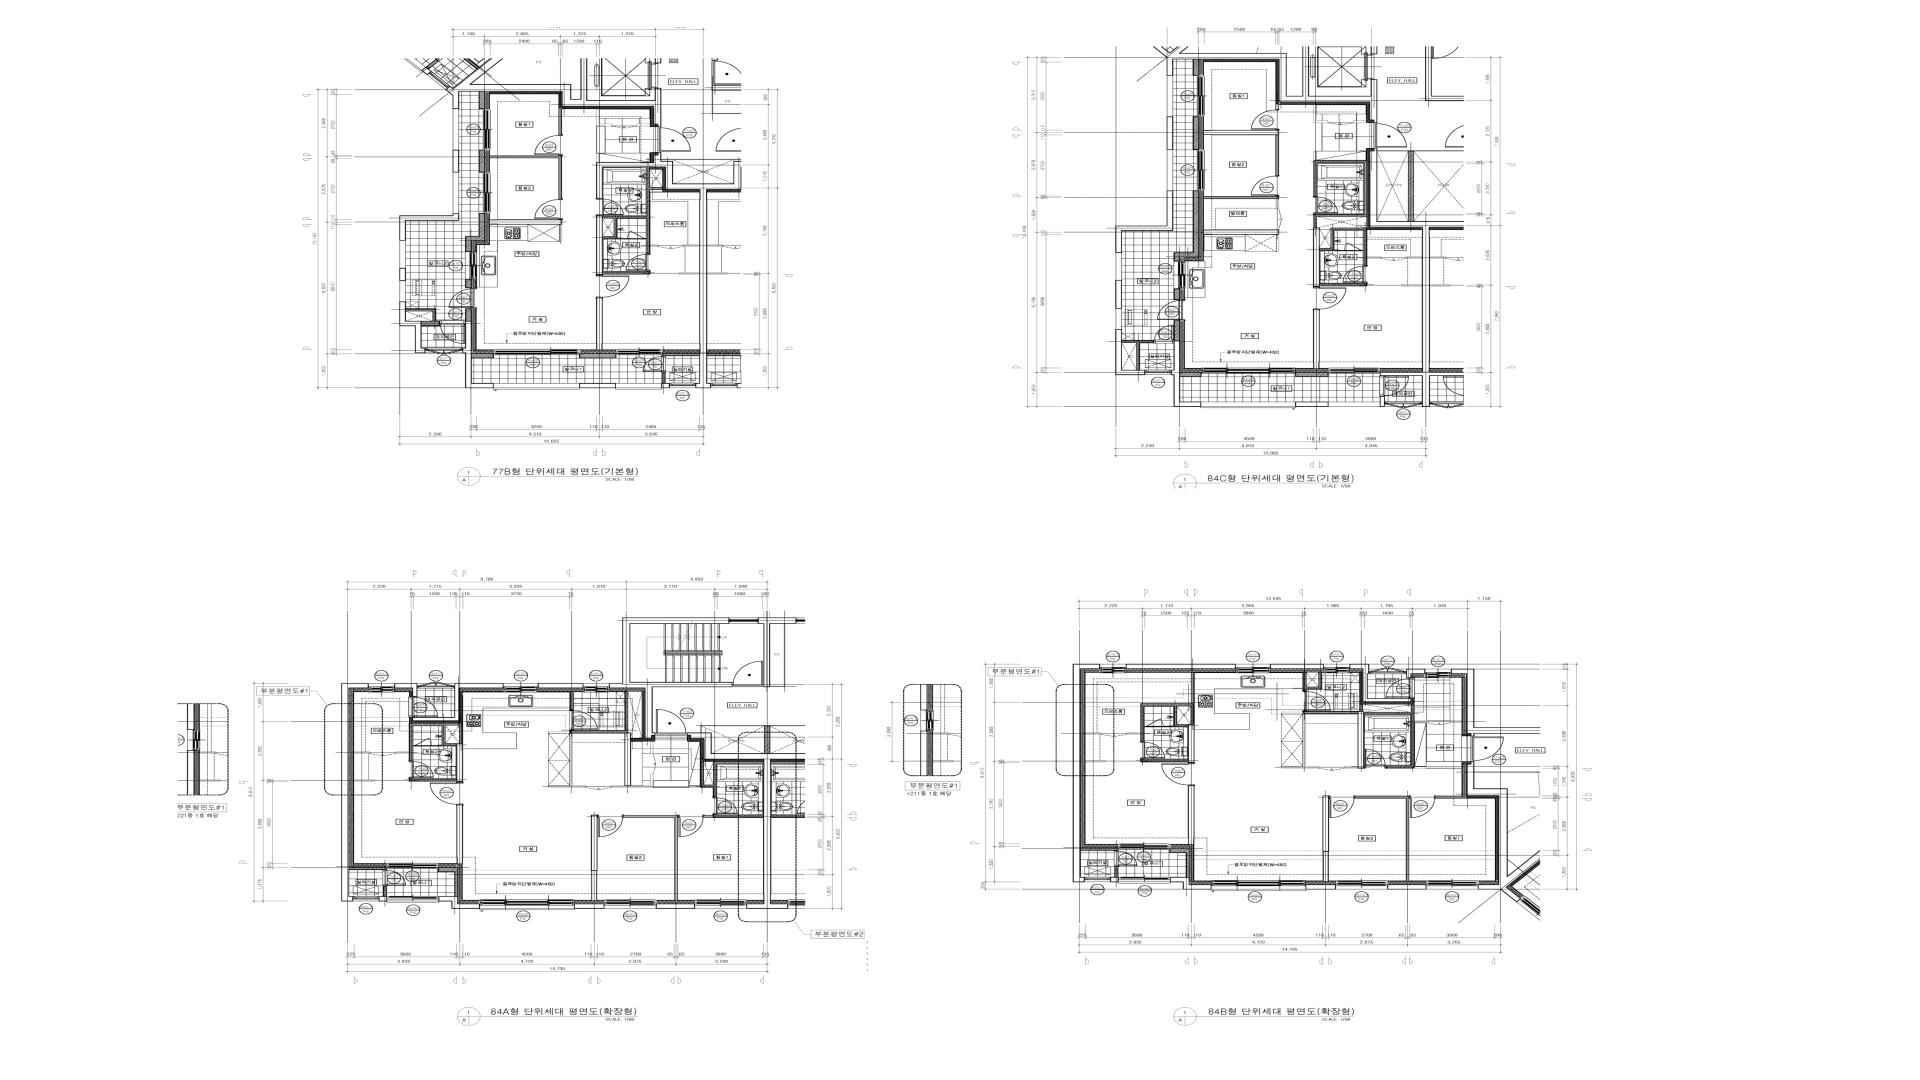door: (1470, 736, 1505, 761), (1374, 123, 1407, 148), (658, 127, 691, 152), (733, 661, 764, 687), (655, 709, 687, 735), (596, 274, 629, 298), (1313, 286, 1346, 310), (1162, 762, 1195, 786), (430, 781, 463, 804), (534, 135, 563, 156), (448, 287, 477, 309), (409, 696, 438, 717), (1379, 376, 1410, 396), (440, 320, 465, 344), (597, 815, 624, 837), (678, 815, 704, 837), (1410, 795, 1436, 818), (1158, 299, 1185, 320), (1251, 175, 1279, 196), (1303, 690, 1331, 711), (534, 199, 563, 219), (1386, 678, 1415, 698), (1329, 795, 1354, 818), (570, 711, 597, 731), (1251, 109, 1279, 129), (596, 198, 624, 215), (1342, 265, 1367, 284), (1365, 749, 1387, 769), (712, 796, 737, 814), (625, 253, 650, 270), (1313, 196, 1338, 214), (1141, 741, 1166, 758), (409, 761, 434, 778), (642, 356, 666, 372), (1114, 851, 1138, 866), (382, 870, 406, 886), (1154, 324, 1174, 343), (1385, 401, 1422, 409), (1369, 667, 1407, 674), (426, 348, 463, 355), (415, 737, 433, 746), (1345, 243, 1362, 251), (1146, 719, 1163, 727), (628, 231, 644, 239), (1428, 720, 1451, 725), (585, 786, 612, 790), (658, 245, 684, 249), (1381, 257, 1407, 261), (369, 752, 396, 756), (1278, 208, 1282, 229), (1101, 733, 1127, 736), (1319, 767, 1345, 770), (1328, 123, 1353, 125), (612, 125, 637, 128)
wall: (596, 152, 741, 388), (1370, 148, 1464, 407), (1153, 46, 1378, 123), (609, 617, 733, 738), (446, 58, 662, 127), (687, 732, 770, 909), (1466, 761, 1540, 902), (549, 691, 628, 787), (1452, 669, 1540, 736), (342, 683, 368, 902), (1073, 663, 1100, 882), (603, 167, 663, 253), (1354, 795, 1410, 881), (624, 815, 678, 901), (1282, 711, 1358, 767), (1365, 704, 1428, 769), (1313, 160, 1367, 228), (1116, 191, 1174, 253), (1203, 129, 1279, 175), (413, 683, 504, 721), (489, 156, 562, 199), (704, 765, 764, 818), (758, 617, 796, 687), (396, 723, 463, 761), (1350, 663, 1411, 702), (612, 732, 653, 787), (700, 761, 764, 796), (1425, 46, 1464, 100), (1141, 703, 1195, 741), (463, 320, 493, 388), (1171, 340, 1201, 407), (1174, 190, 1200, 261), (1320, 228, 1367, 265), (1203, 229, 1279, 252), (1141, 727, 1188, 762), (1320, 251, 1367, 286), (409, 746, 456, 781), (400, 214, 459, 240), (400, 302, 426, 353), (1116, 330, 1145, 375), (1345, 711, 1365, 769), (770, 624, 786, 687), (1122, 340, 1154, 369), (1203, 196, 1279, 208), (465, 212, 485, 252), (700, 725, 806, 732), (406, 309, 440, 326), (1126, 663, 1236, 669), (1170, 848, 1189, 877), (438, 868, 458, 897), (1323, 795, 1329, 881), (591, 815, 597, 901), (438, 897, 480, 909), (1170, 877, 1211, 889), (456, 804, 463, 864), (1188, 786, 1195, 845), (596, 215, 603, 274), (1313, 310, 1320, 369), (489, 219, 562, 224), (1313, 228, 1320, 286), (1408, 152, 1414, 222), (1303, 671, 1323, 690), (596, 298, 603, 351), (394, 683, 417, 696), (1270, 663, 1324, 669), (596, 108, 612, 125), (1313, 104, 1328, 123), (456, 744, 463, 782), (1188, 724, 1195, 762), (538, 683, 583, 688), (1167, 116, 1174, 149), (1193, 116, 1200, 149), (655, 903, 695, 909), (579, 353, 616, 359), (1116, 280, 1122, 309), (603, 270, 650, 274), (580, 382, 616, 388), (1295, 372, 1329, 377), (1295, 402, 1328, 407), (1407, 669, 1425, 678), (479, 149, 485, 173), (1387, 885, 1427, 889), (575, 903, 604, 909), (765, 725, 770, 753), (452, 150, 459, 171), (1174, 320, 1180, 340), (1191, 671, 1195, 703), (1305, 885, 1336, 889), (479, 91, 485, 108), (1378, 150, 1464, 152), (1180, 372, 1201, 377), (472, 353, 493, 359), (1193, 59, 1200, 75), (662, 158, 741, 160), (349, 868, 386, 870), (1081, 848, 1118, 851), (662, 353, 699, 356), (400, 268, 406, 281), (1436, 795, 1466, 798), (465, 309, 472, 320), (570, 691, 574, 711), (559, 108, 562, 135), (1174, 289, 1180, 299), (1379, 396, 1385, 407), (1085, 760, 1106, 762), (465, 280, 472, 287), (1402, 284, 1422, 286), (378, 897, 388, 902), (382, 886, 386, 897), (1085, 732, 1101, 735), (1114, 866, 1118, 877), (683, 244, 699, 247), (662, 382, 670, 388), (662, 372, 666, 382), (1110, 877, 1118, 882), (1407, 256, 1422, 258), (1127, 732, 1141, 735), (1353, 120, 1366, 123), (1367, 256, 1381, 258), (1451, 720, 1462, 723), (650, 741, 653, 753), (353, 779, 375, 781), (1360, 704, 1364, 711), (679, 273, 699, 274), (560, 224, 562, 241), (353, 752, 369, 753), (650, 244, 658, 247), (1275, 104, 1279, 109), (637, 124, 650, 125)
window: (480, 899, 575, 910), (1212, 881, 1305, 890), (493, 382, 580, 389), (1201, 402, 1296, 407), (1201, 368, 1295, 373), (604, 899, 655, 909), (695, 899, 746, 909), (1427, 880, 1478, 889), (1336, 880, 1387, 889), (493, 349, 579, 355), (386, 895, 439, 902), (1118, 877, 1170, 884), (386, 862, 438, 869), (465, 252, 477, 280), (1174, 261, 1185, 289), (1197, 75, 1205, 116), (1197, 149, 1205, 190), (483, 108, 491, 149), (483, 173, 491, 214), (504, 683, 538, 692), (1236, 663, 1270, 673), (616, 382, 662, 389), (1167, 149, 1174, 191), (452, 108, 459, 150), (452, 171, 459, 214), (1118, 844, 1170, 849), (1329, 368, 1381, 373), (1167, 75, 1174, 116), (417, 682, 455, 688), (583, 683, 609, 692), (1100, 663, 1126, 673), (1324, 663, 1350, 673), (1425, 669, 1452, 678), (616, 349, 662, 355), (368, 683, 394, 692), (1328, 402, 1381, 406), (729, 617, 758, 624), (1116, 252, 1122, 280), (400, 240, 406, 268), (1084, 877, 1110, 882), (670, 382, 696, 388), (1116, 309, 1122, 330), (1145, 369, 1171, 375), (400, 281, 406, 302), (352, 895, 378, 901)
